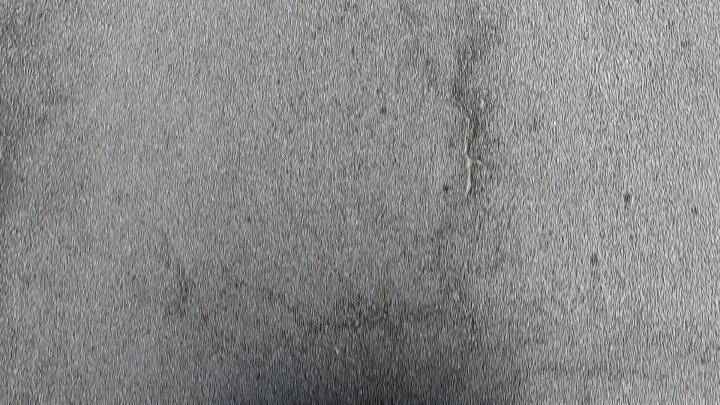Crack: (449, 12, 496, 203), (452, 13, 494, 196)
